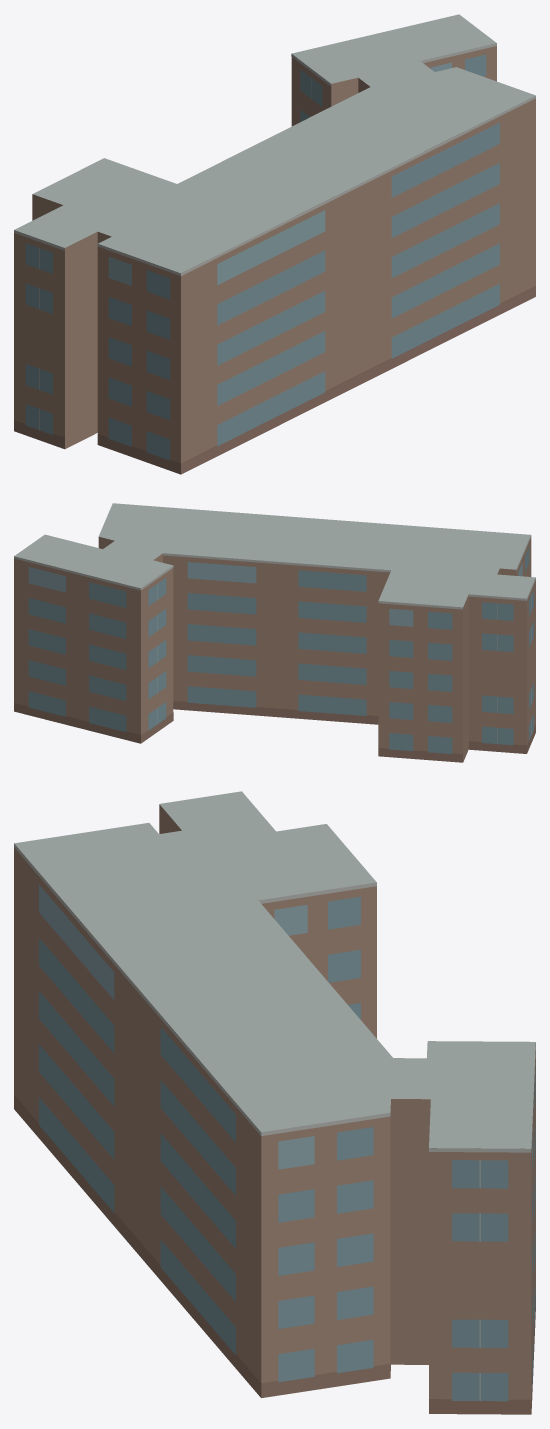
The model's file is residential-19b73a23-dfe9-4544-920c-0bdb92ce707b.glb.
3 views of the same model, one above another, from view 1: azimuth 30°, elevation 25°; view 2: azimuth 150°, elevation 25°; view 3: azimuth 270°, elevation 25° (orthographic). The views are drawn at different scales.
Parts seen in each view (by area): view 1: residential-19b73a23-dfe9-4544-920c-0bdb92ce707b.tmp; view 2: residential-19b73a23-dfe9-4544-920c-0bdb92ce707b.tmp; view 3: residential-19b73a23-dfe9-4544-920c-0bdb92ce707b.tmp.
Boxes of the visible parts, x1=… form: residential-19b73a23-dfe9-4544-920c-0bdb92ce707b.tmp: x1=14, y1=14, x2=535, y2=474; residential-19b73a23-dfe9-4544-920c-0bdb92ce707b.tmp: x1=14, y1=503, x2=535, y2=762; residential-19b73a23-dfe9-4544-920c-0bdb92ce707b.tmp: x1=14, y1=791, x2=535, y2=1414.
Size of the model in its own units: 49.05 by 17 by 30.26.
